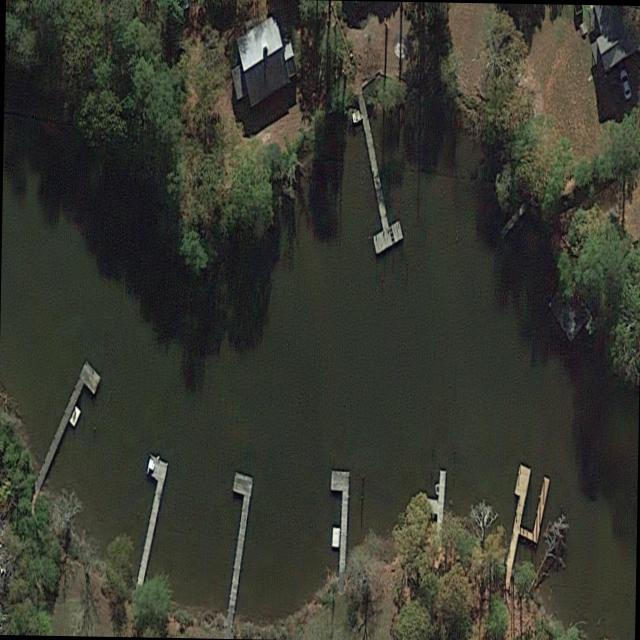small-vehicle: (616, 62, 634, 104)
